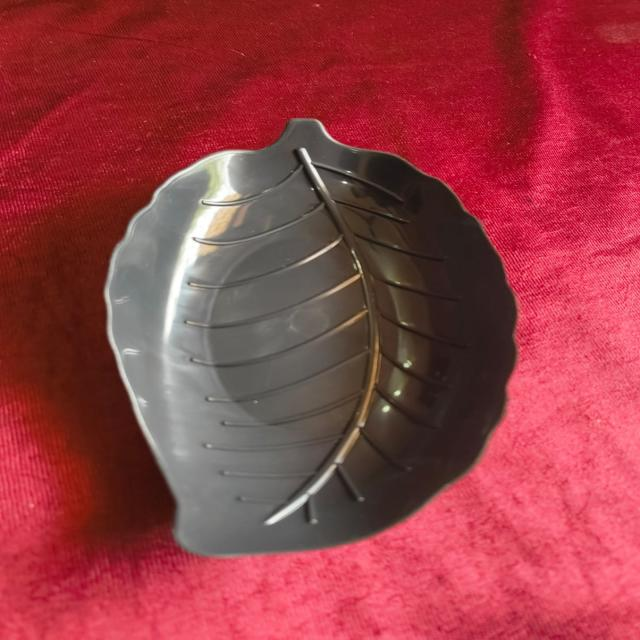plate: (102, 115, 516, 558)
